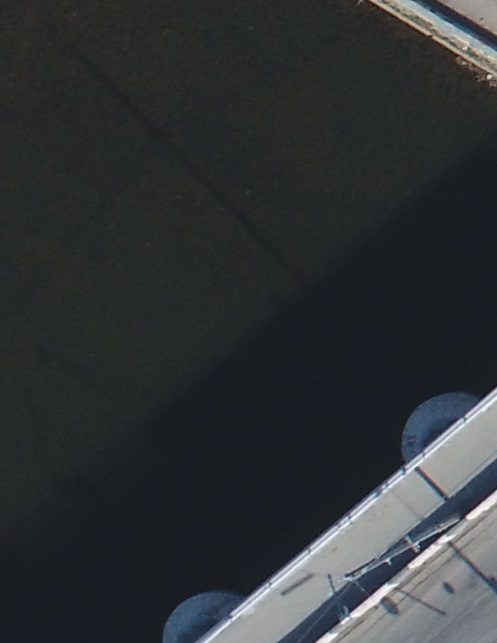opora: (331, 471, 464, 589)
